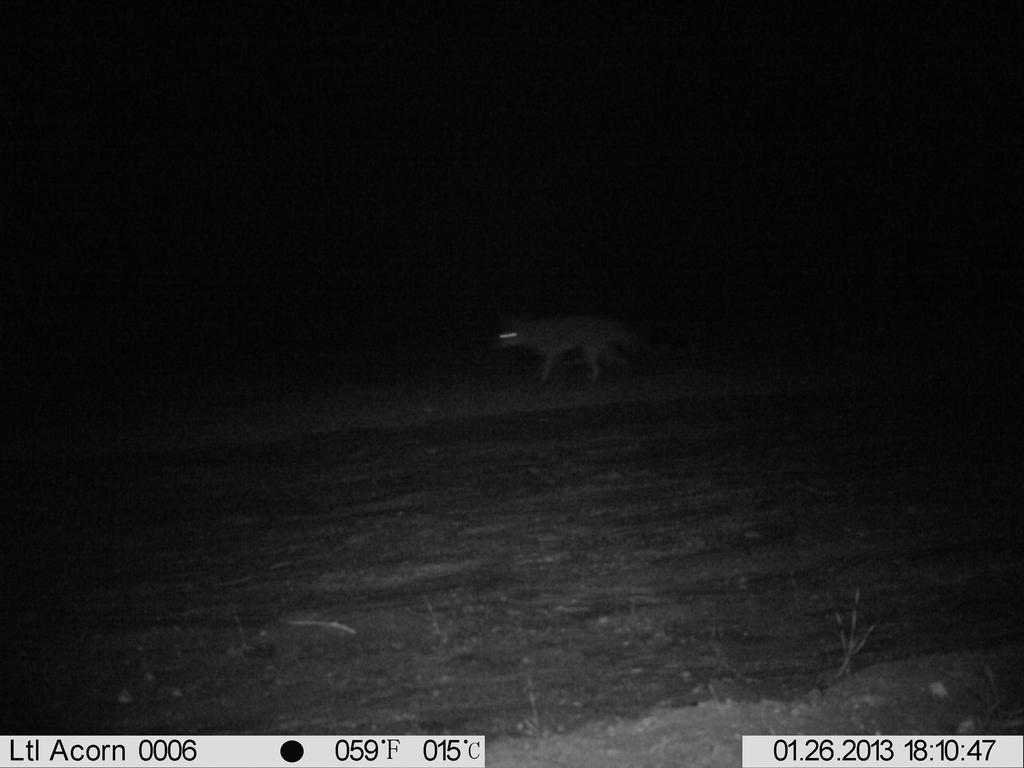coyote: (486, 298, 656, 395)
